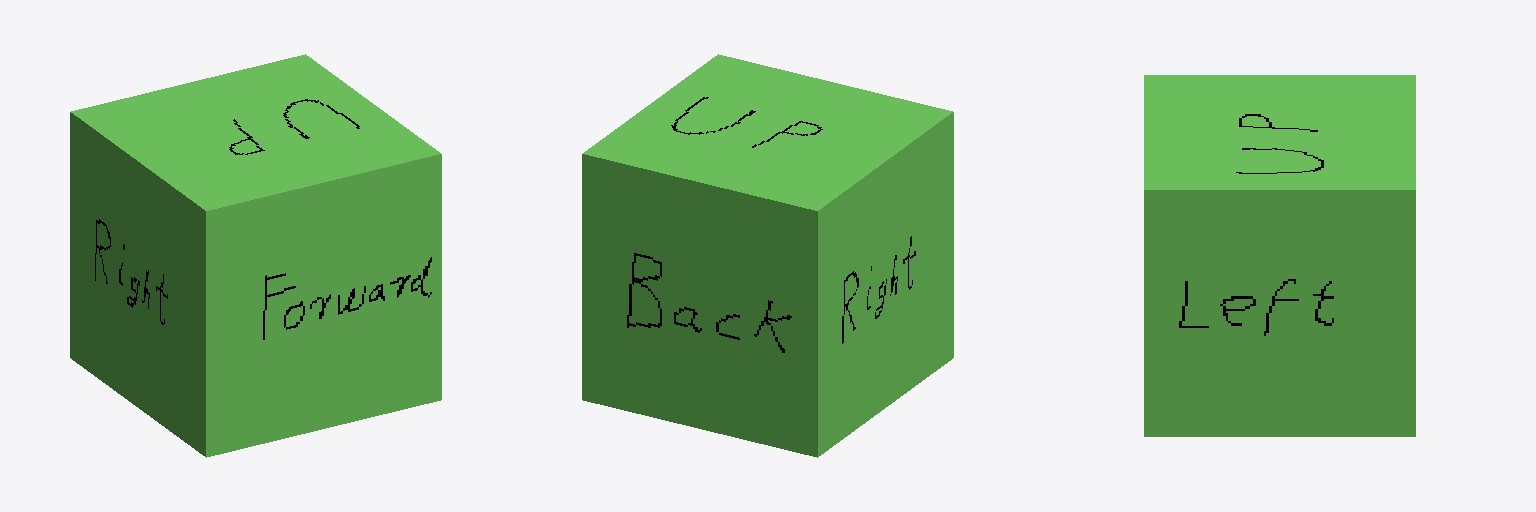
3 renders of one model, left to right at view 1: azimuth 30°, elevation 25°; view 2: azimuth 150°, elevation 25°; view 3: azimuth 270°, elevation 25°, orthographic.
Bounding box in the file's own units: 100 × 100 × 100.
1 materials, 1 textured.